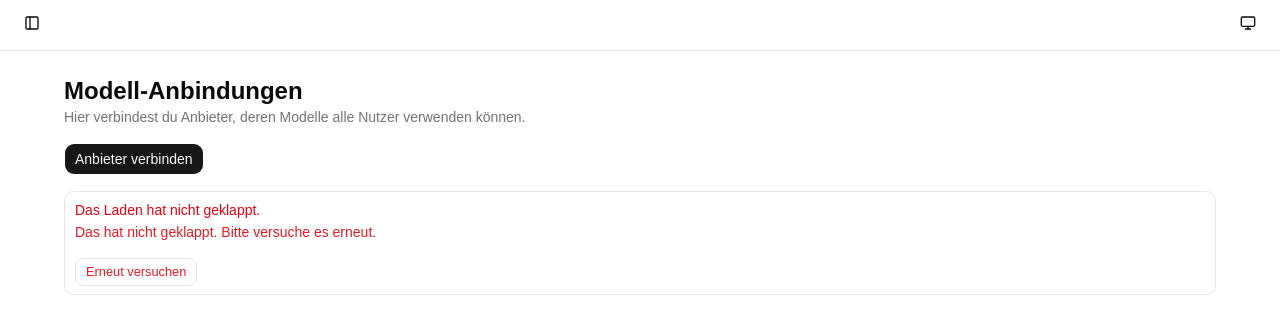
Test: AdminConnectionsPage: list › shows an error with a retry button and recovers
Expected: the heading "Modell-Anbindungen" is shown, [64,77,303,104]
Expected: the message shows "Das Laden hat nicht geklappt.", [75,202,260,218]
Click the button "Erneut versuchen": [136, 272] box [75,258,197,286]
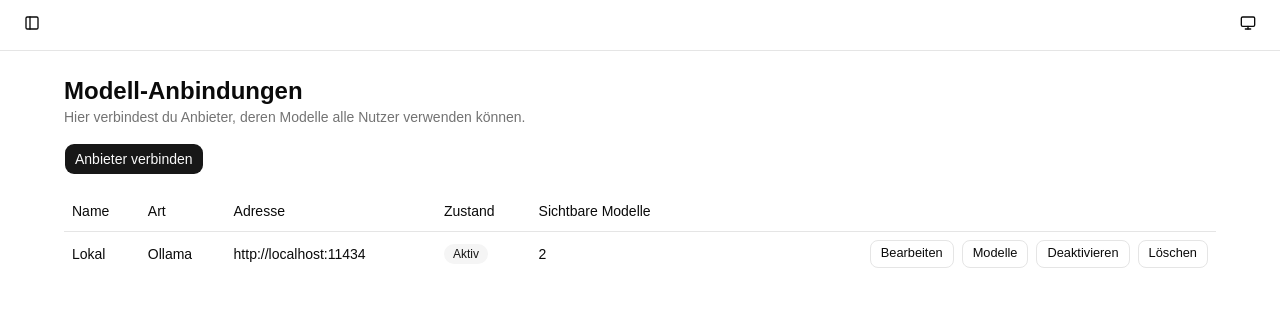
Expected: the row "Lokal" is shown, [64,231,1216,276]
